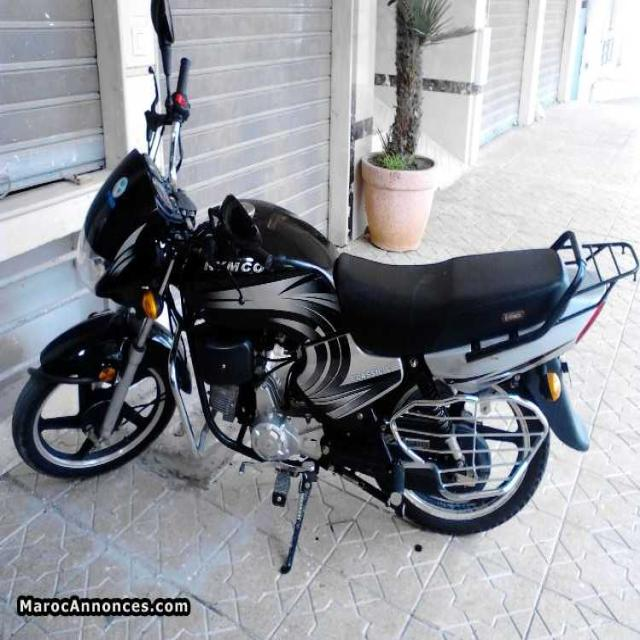Motorcycle: (12, 0, 640, 573)
